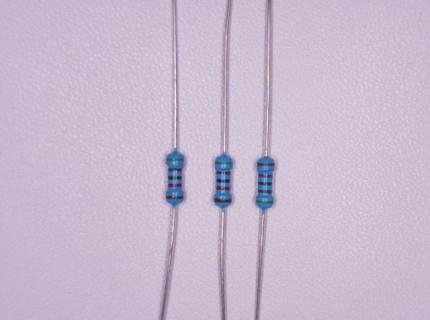Black band: (216, 179, 230, 183), (168, 176, 182, 179), (259, 182, 273, 185)
Brown band: (214, 198, 231, 202), (167, 196, 183, 199), (258, 163, 274, 166), (258, 190, 272, 193), (216, 172, 230, 174), (169, 169, 182, 171)
Green band: (256, 200, 273, 204), (166, 158, 184, 161), (216, 162, 232, 164)
Red band: (259, 174, 272, 178), (168, 184, 182, 187), (217, 187, 230, 190)
